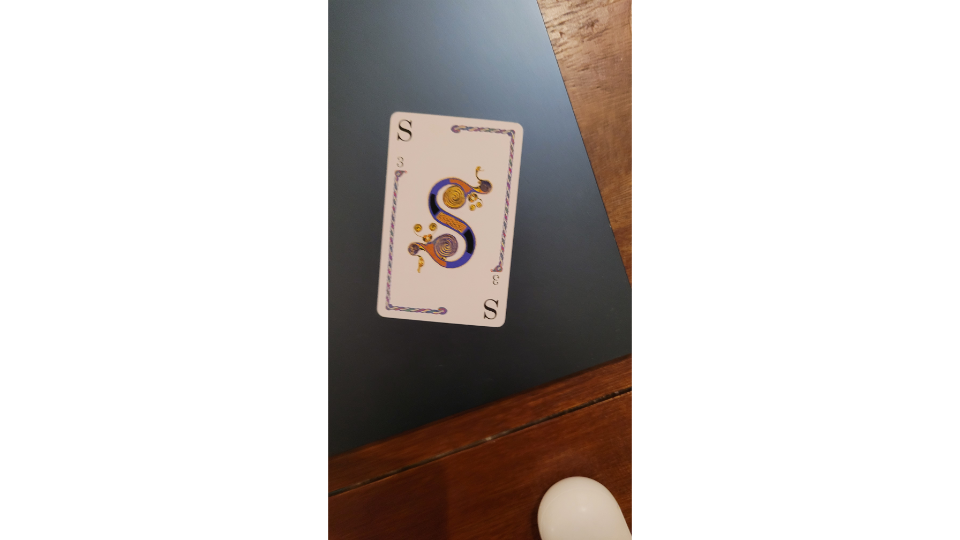S: (372, 109, 527, 335)
